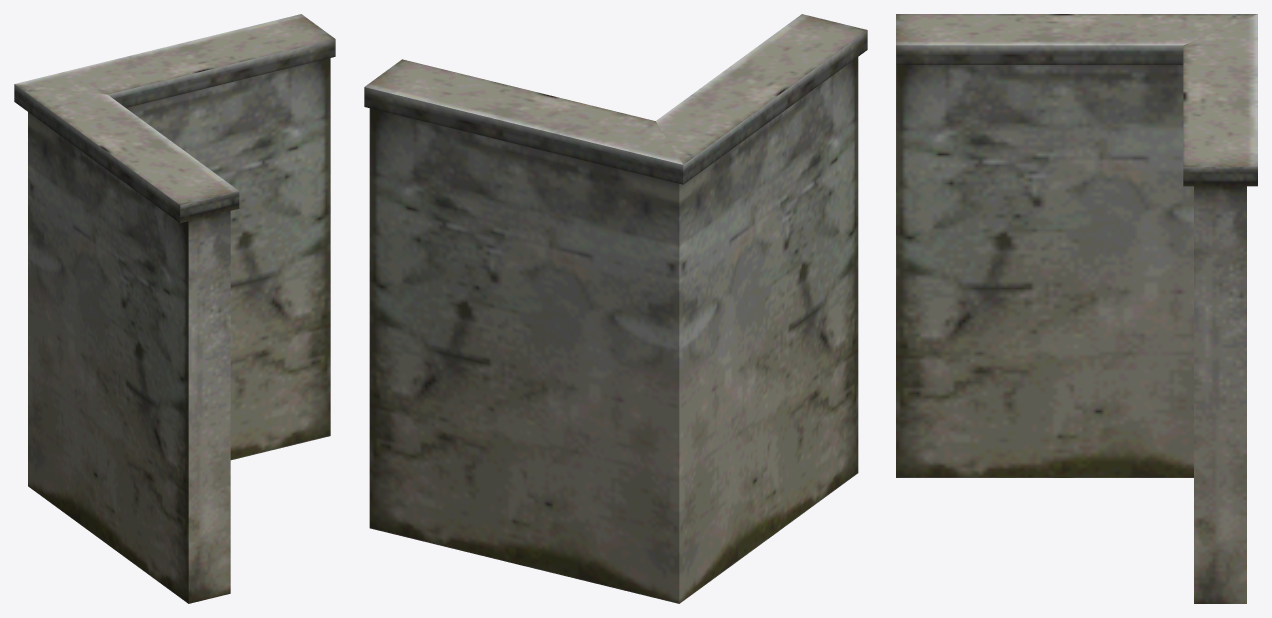
File: Wall_corner1.fbx
3 renders of one model, left to right at view 1: azimuth 30°, elevation 25°; view 2: azimuth 150°, elevation 25°; view 3: azimuth 270°, elevation 25°, orthographic. The views are drawn at different scales.
Visible parts, largest first — view 1: Wall_corner1; view 2: Wall_corner1; view 3: Wall_corner1.
Part boxes in pixels (x1,y1,x2,y2): Wall_corner1: [14, 14, 335, 603]; Wall_corner1: [364, 14, 867, 603]; Wall_corner1: [896, 14, 1257, 603].
Bounding box in the file's own units: 225 × 299 × 225.
